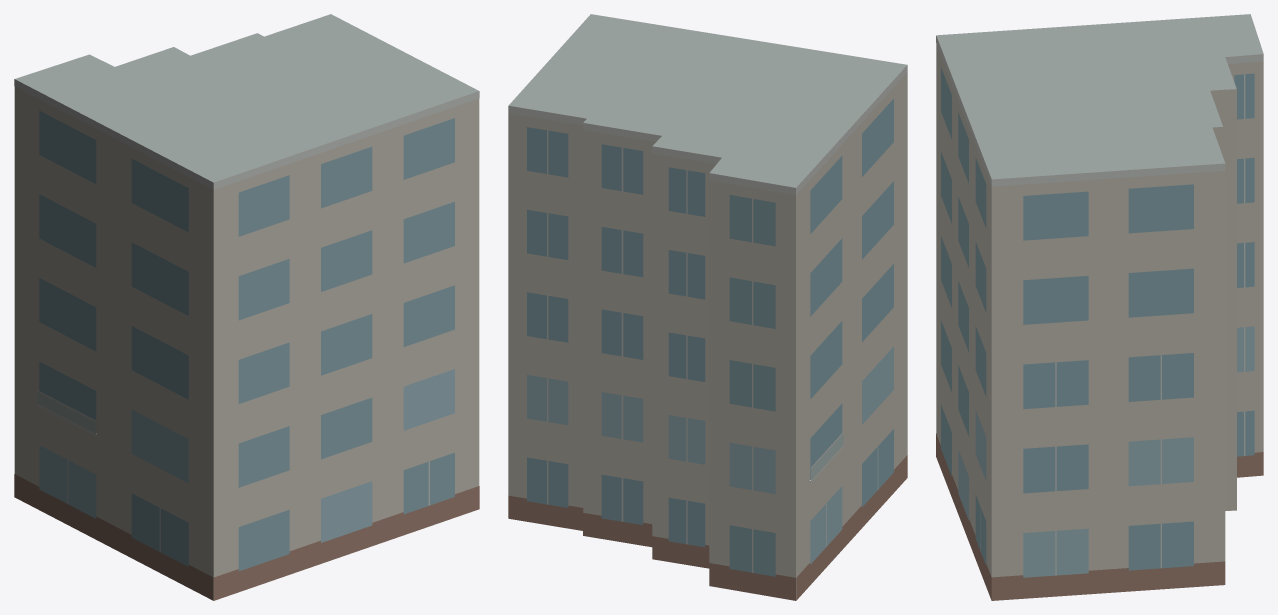
File: survey-upis-32707853.glb
3 views of the same model, side by side, from view 1: azimuth 30°, elevation 25°; view 2: azimuth 150°, elevation 25°; view 3: azimuth 270°, elevation 25° (orthographic). The views are drawn at different scales.
Visible parts, largest first — view 1: survey-upis-32707853.tmp; view 2: survey-upis-32707853.tmp; view 3: survey-upis-32707853.tmp.
Part boxes in pixels (x1=…): survey-upis-32707853.tmp: x1=14, y1=14, x2=479, y2=600; survey-upis-32707853.tmp: x1=508, y1=14, x2=907, y2=600; survey-upis-32707853.tmp: x1=936, y1=14, x2=1263, y2=600.
Size of the model in its own units: 11.79 by 14 by 9.87.
